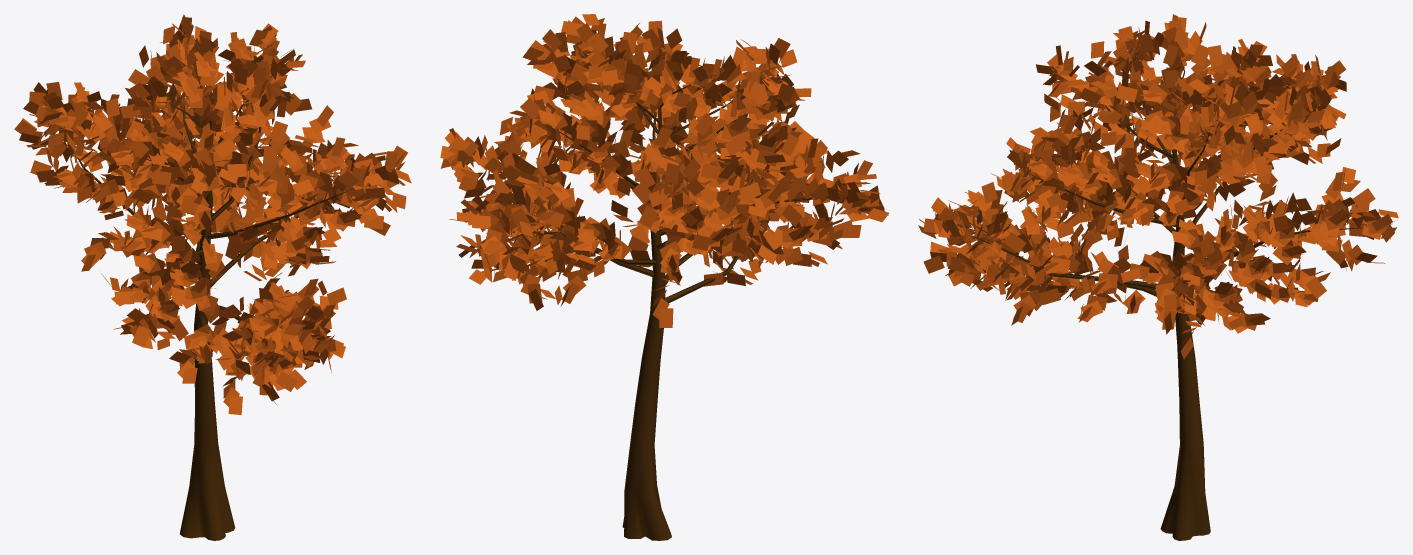
Rendered from Baum 2.FBX.
3 renders of one model, left to right at view 1: azimuth 30°, elevation 25°; view 2: azimuth 150°, elevation 25°; view 3: azimuth 270°, elevation 25°, orthographic. The views are drawn at different scales.
Parts seen in each view (by area): view 1: Foliage014; view 2: Foliage014; view 3: Foliage014.
Part boxes in pixels (x1=…): Foliage014: x1=14, y1=14, x2=411, y2=540; Foliage014: x1=440, y1=14, x2=888, y2=540; Foliage014: x1=918, y1=14, x2=1398, y2=540.
Bounding box in the file's own units: 487 × 629 × 556.
